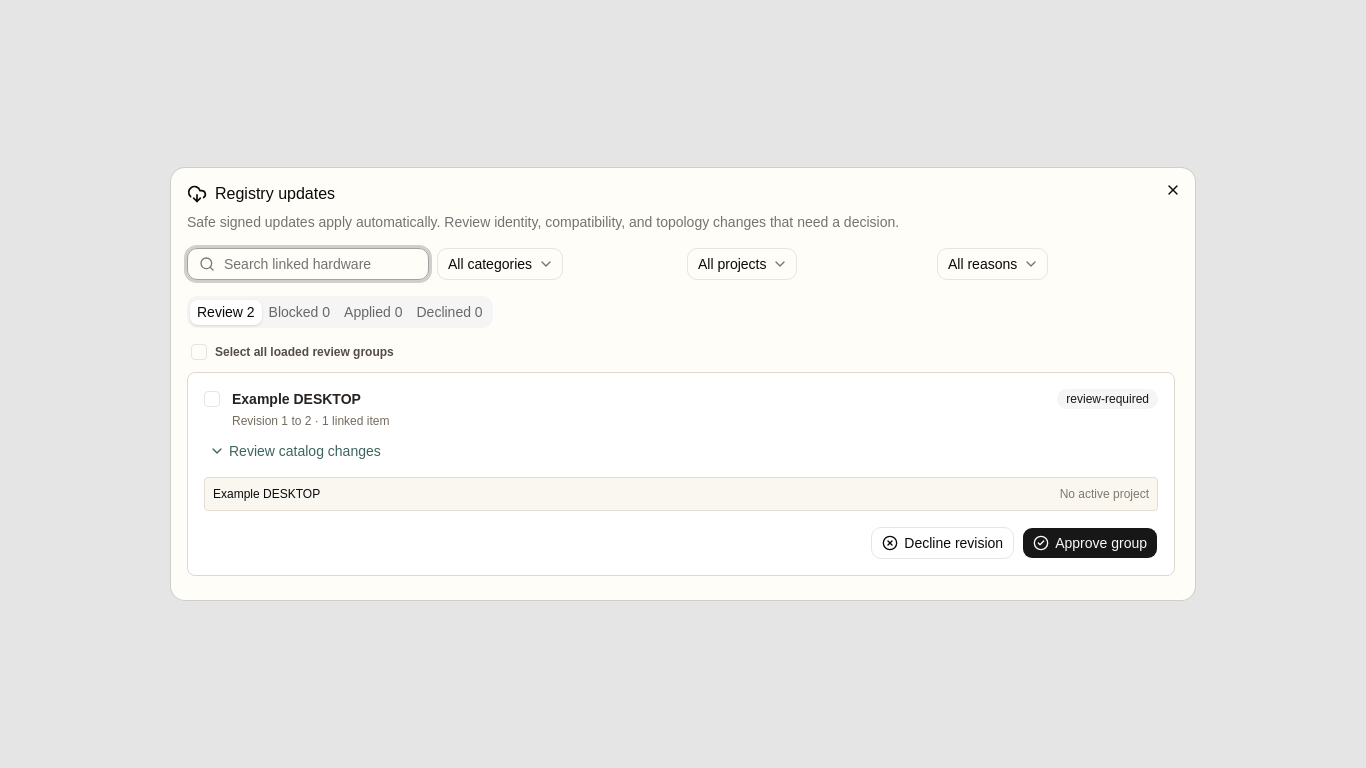
it: RegistryUpdatesDialog › presents an empty WLAN cross-resource migration as one reclassification
This screenshot has width=1366, height=768.
Click the button "Review catalog changes".
click(295, 451)  # box [204,437,386,465]
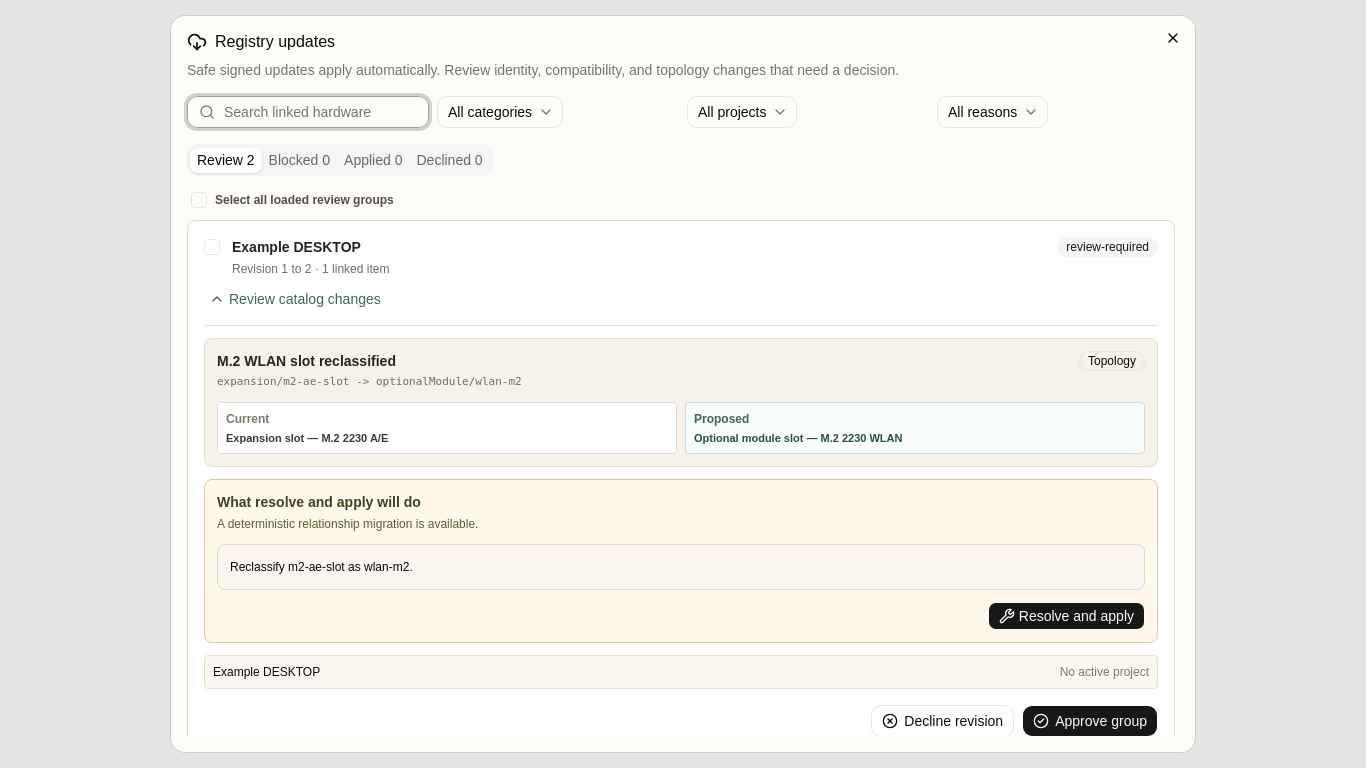
Check: the text "M.2 WLAN slot reclassified" is shown, box [217,353,396,369]
Check: the text "Expansion slot — M.2 2230 A/E" is shown, box [226,432,388,444]
Check: the text "Optional module slot — M.2 2230 WLAN" is shown, box [694,432,902,444]
